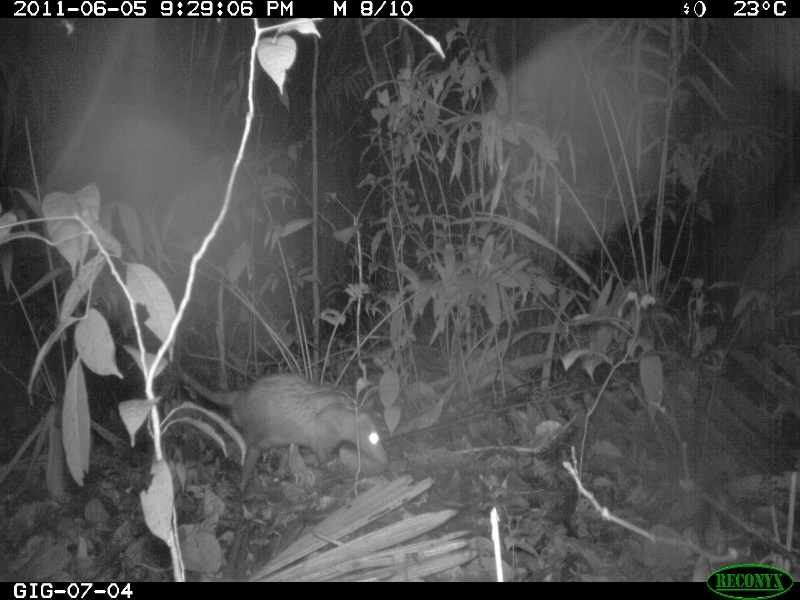opossum: (172, 365, 390, 466)
